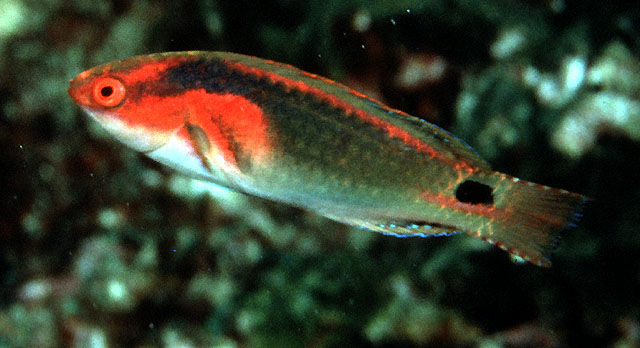fish: (69, 49, 588, 265)
